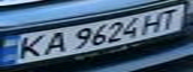2: (106, 19, 127, 44)
4: (121, 16, 145, 39)
6: (90, 21, 112, 47)
9: (69, 25, 93, 52)
A: (36, 29, 72, 56)
H: (136, 10, 169, 35)
K: (9, 34, 51, 62)
T: (151, 7, 187, 32)
